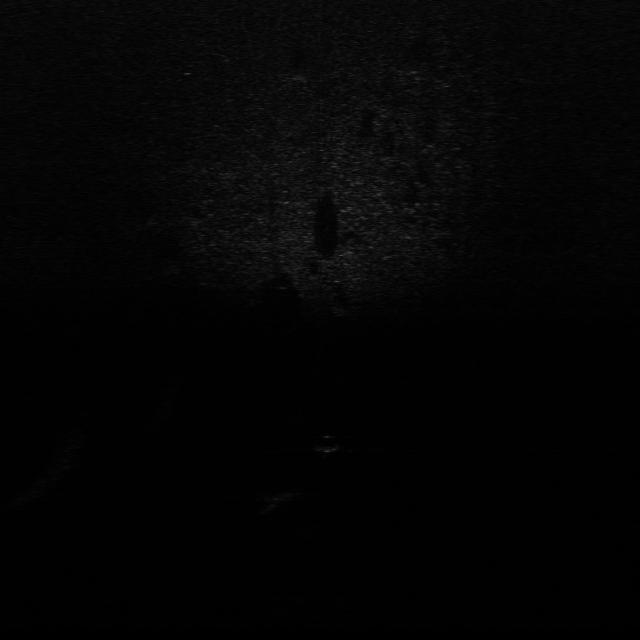ball: (313, 431, 343, 455)
square cage: (254, 483, 304, 516)
